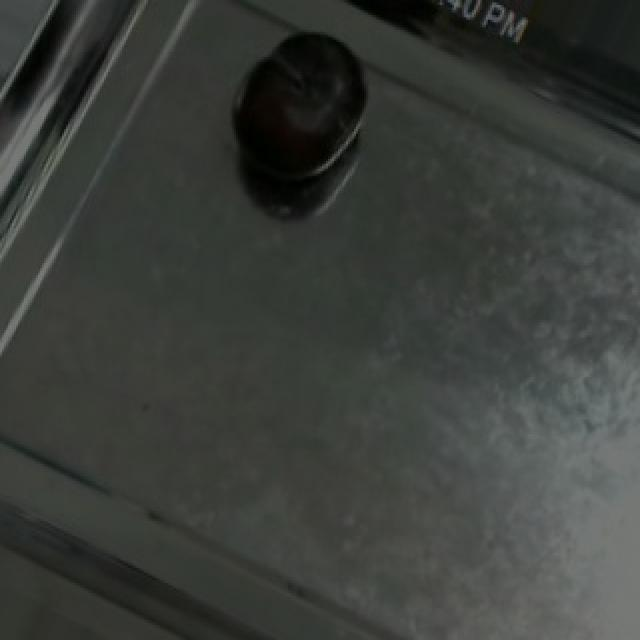Fruit: (218, 8, 388, 204)
